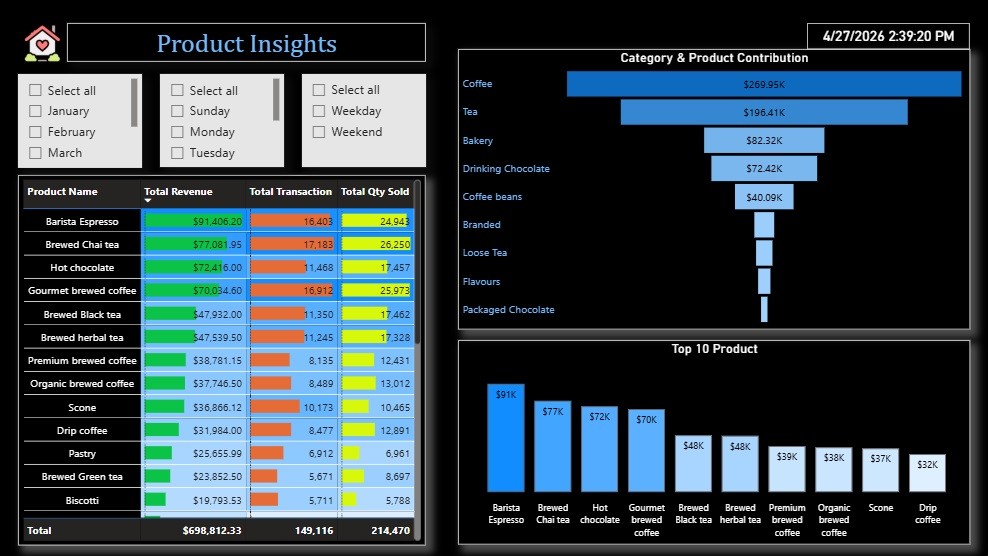

Layout of this report page (visuals, bound fields, positions):
{"tool":"powerbi","page":{"name":"Product Insights","canvas":[1280,720],"ordinal":2},"visuals":[{"type":"columnChart","title":"Top 10 Product","fields":{"Category":["Product.product_type"],"Y":["Sales.Total Revenue"]},"box":[594.6,441.8,660.6,264.3],"z":0},{"type":"funnel","title":"Category & Product Contribution","fields":{"Category":["Category.product_category","Product.product_type"],"Y":["Sales.Total Revenue"]},"box":[594.6,66.1,660.6,362],"z":1000},{"type":"tableEx","fields":{"Values":["Product.product_type","Sales.Total Revenue","Sales.Total Transaction","Sales.Total Quantity Sold"]},"box":[27.5,228.5,525.8,477.6],"z":2000},{"type":"shape","box":[90.3,32.7,463.4,49.7],"z":3000},{"type":"image","box":[27.5,33,63.3,49.5],"z":4000},{"type":"card","fields":{"Values":["Calender.Run Time"]},"box":[1045.2,32.3,210.3,33.5],"z":5000},{"type":"slicer","fields":{"Values":["Calender.Month Name"]},"box":[27.4,97.9,160,121],"z":6000},{"type":"slicer","fields":{"Values":["Calender.Day"]},"box":[210.8,98.2,159.7,120.4],"z":7000},{"type":"slicer","fields":{"Values":["Calender.Week type"]},"box":[394,98.2,159.7,120.4],"z":8000}]}

Visuals, with their boxes in screenshot pixels (x1, y1, x2, y2), scaled from the page's 1280x720 canvas onto the 988x556 screenshot:
"Top 10 Product" columnChart: [x1=459, y1=341, x2=969, y2=545]
"Category & Product Contribution" funnel: [x1=459, y1=51, x2=969, y2=331]
tableEx - Product.product_type x Sales.Total Revenue: [x1=21, y1=176, x2=427, y2=545]
shape: [x1=70, y1=25, x2=427, y2=64]
image: [x1=21, y1=25, x2=70, y2=64]
card - Calender.Run Time: [x1=807, y1=25, x2=969, y2=51]
slicer - Calender.Month Name: [x1=21, y1=76, x2=145, y2=169]
slicer - Calender.Day: [x1=163, y1=76, x2=286, y2=169]
slicer - Calender.Week type: [x1=304, y1=76, x2=427, y2=169]
